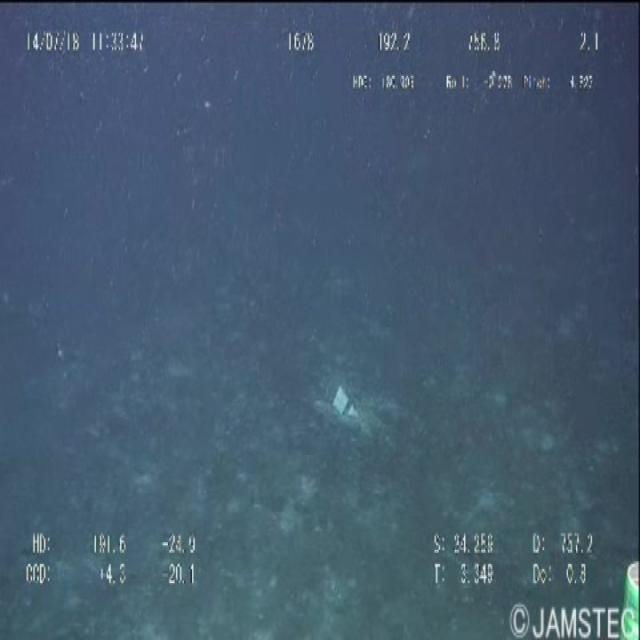Glass: (323, 374, 374, 434)
